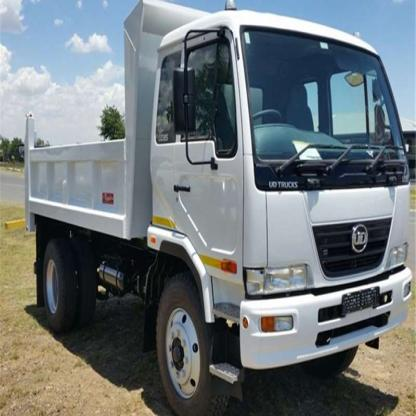dump_truck: (13, 0, 415, 411)
